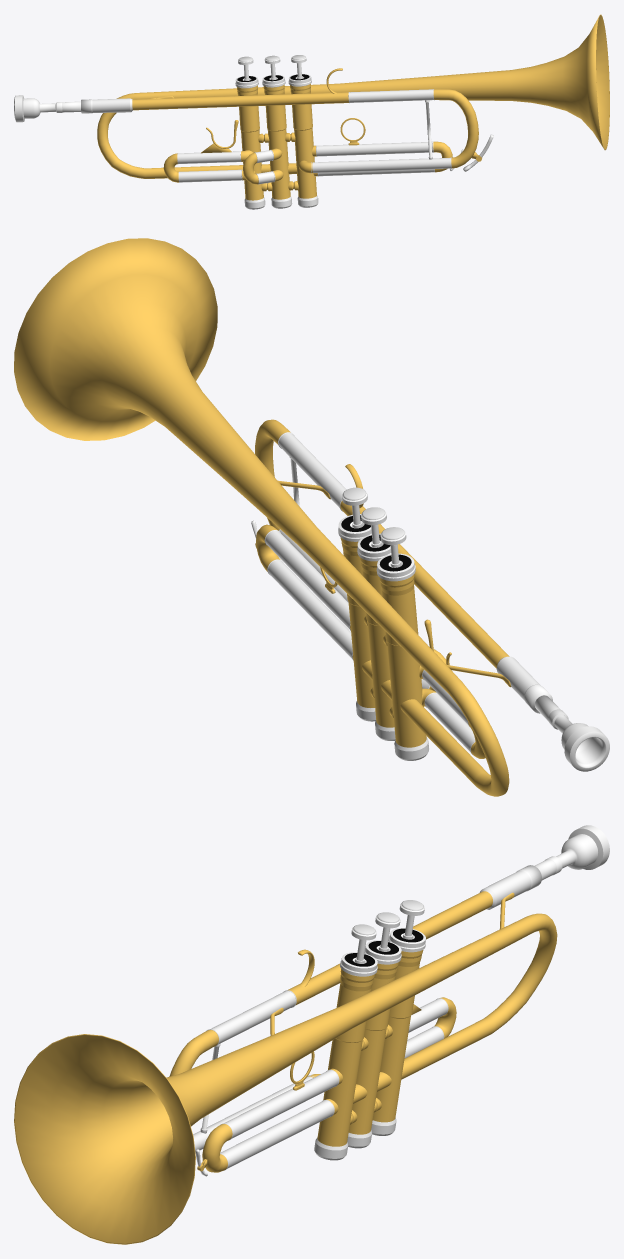
File: mobile.9b6a62af7db0.glb
The picture shows the model from 3 angles, top to bottom: view 1: azimuth 30°, elevation 25°; view 2: azimuth 150°, elevation 25°; view 3: azimuth 270°, elevation 25°; orthographic projection. The views are drawn at different scales.
Visible parts, largest first — view 1: Cylinder, Cylinder.001, Cylinder.006, Cylinder.005, Cylinder.014, Cylinder.003, Cylinder.034, Cylinder.002, Cylinder.013, Torus, Cylinder.007, Cylinder.015; view 2: Cylinder, Cylinder.001, Cylinder.006, Cylinder.005, Cylinder.014, Cylinder.034, Cylinder.037, Cylinder.004, Cylinder.033, Cylinder.002; view 3: Cylinder, Cylinder.001, Cylinder.006, Cylinder.014, Cylinder.005, Cylinder.002, Cylinder.034, Cylinder.004, Cylinder.013, Cylinder.033, Cylinder.015.
Boxes of the visible parts, box(x1,y1,x2,y2) form: Cylinder: box(97, 14, 609, 178); Cylinder.001: box(237, 87, 316, 200); Cylinder.006: box(312, 141, 452, 176); Cylinder.005: box(163, 150, 255, 182); Cylinder.014: box(239, 104, 312, 131); Cylinder.003: box(243, 148, 283, 184); Cylinder.034: box(81, 98, 130, 113); Cylinder.002: box(14, 95, 55, 122); Cylinder.013: box(244, 198, 318, 208); Torus: box(201, 120, 238, 153); Cylinder.007: box(258, 132, 298, 191); Cylinder.015: box(235, 75, 285, 87); Cylinder: box(14, 238, 509, 796); Cylinder.001: box(342, 542, 426, 747); Cylinder.006: box(256, 524, 353, 659); Cylinder.005: box(419, 666, 485, 758); Cylinder.014: box(343, 550, 418, 645); Cylinder.034: box(496, 656, 552, 713); Cylinder.037: box(570, 731, 609, 771); Cylinder.004: box(341, 516, 411, 571); Cylinder.033: box(342, 487, 405, 541); Cylinder.002: box(554, 715, 604, 766); Cylinder: box(14, 891, 557, 1244); Cylinder.001: box(317, 954, 421, 1146); Cylinder.006: box(202, 1068, 342, 1172); Cylinder.014: box(336, 963, 419, 1042); Cylinder.005: box(404, 997, 456, 1058); Cylinder.002: box(556, 825, 609, 869); Cylinder.034: box(485, 865, 541, 908); Cylinder.004: box(344, 929, 423, 966); Cylinder.013: box(314, 1122, 396, 1158); Cylinder.033: box(352, 900, 424, 936); Cylinder.015: box(364, 928, 425, 964).
Bounding box in the file's own units: 8.35 × 3.1 × 5.61.
